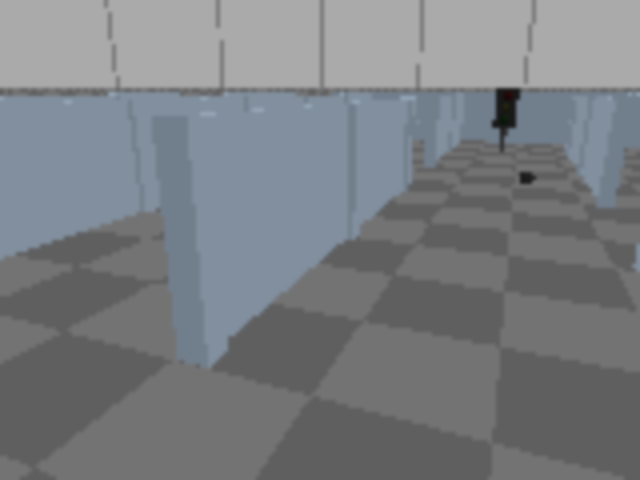traffic_light: (491, 85, 520, 152)
